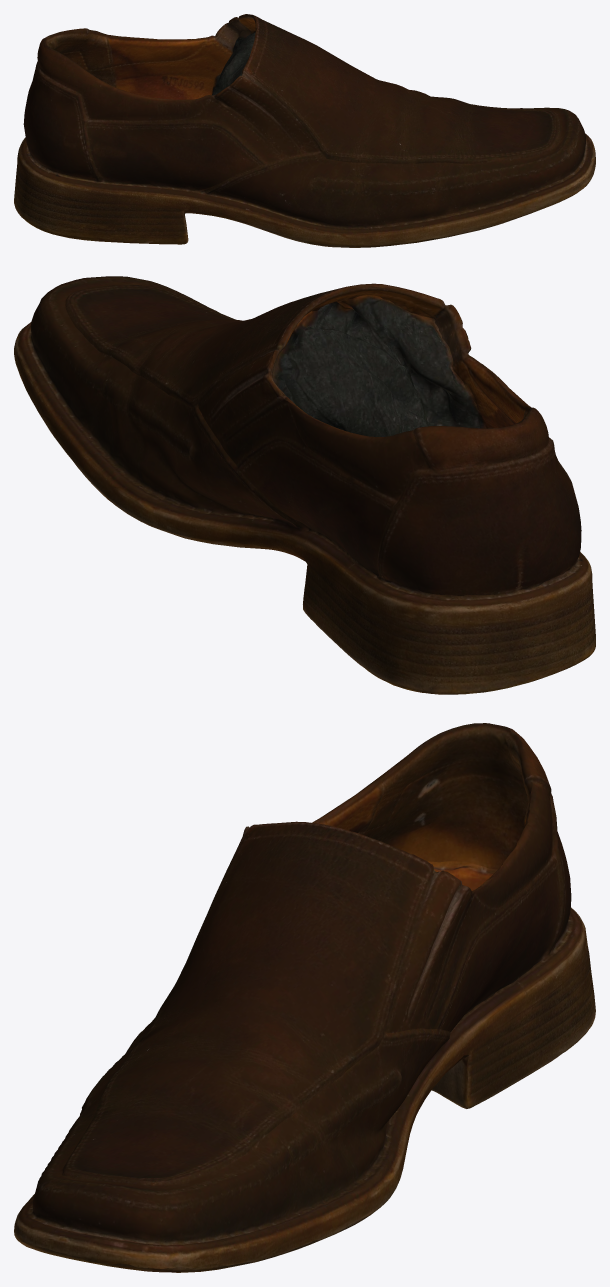
3 views of the same model, one above another, from view 1: azimuth 30°, elevation 25°; view 2: azimuth 150°, elevation 25°; view 3: azimuth 270°, elevation 25° (orthographic). The views are drawn at different scales.
Parts seen in each view (by area): view 1: Object_2; view 2: Object_2; view 3: Object_2.
Boxes of the visible parts, box(x1,y1,x2,y2) form: Object_2: box(14, 14, 595, 247); Object_2: box(14, 276, 595, 694); Object_2: box(14, 723, 595, 1272).
Bounding box in the file's own units: 0.2859 × 0.1074 × 0.1912.
1 material, 1 textured.
